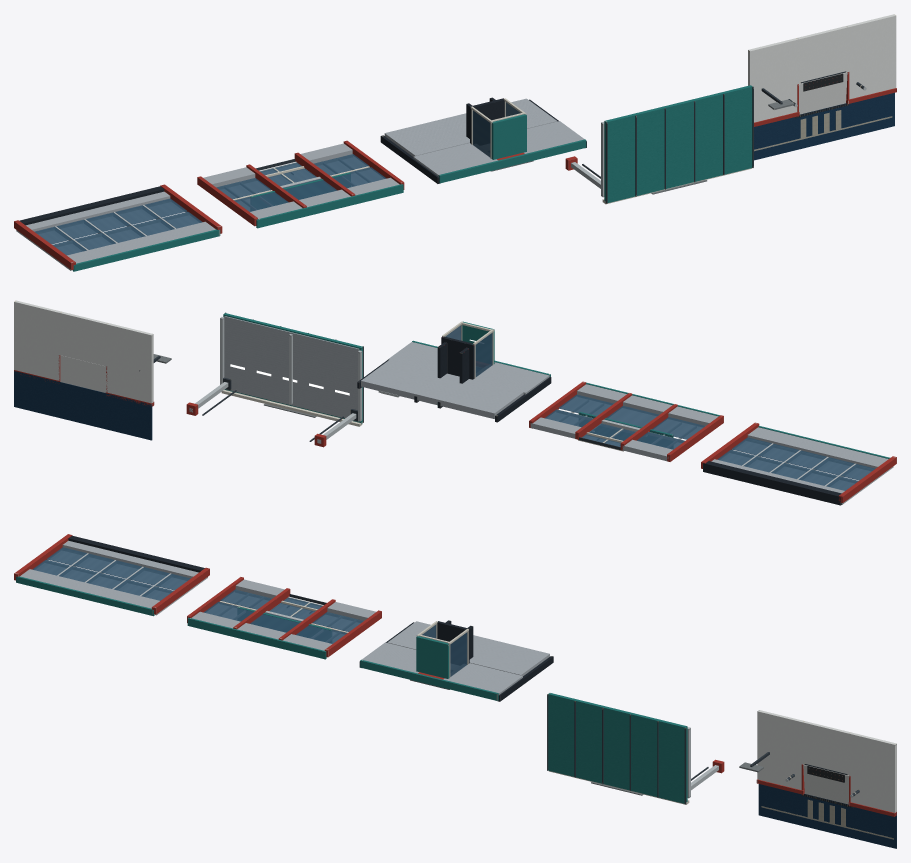
Rendered from PROJECT_Z_Airport_Terminal_Facade_KIT_ALL.glb.
3 views of the same model, one above another, from view 1: azimuth 30°, elevation 25°; view 2: azimuth 150°, elevation 25°; view 3: azimuth 330°, elevation 25° (orthographic). The views are drawn at different scales.
Visible parts, largest first — view 1: REN_Canopy_MainRoofDeck, REN_Curb_Sidewalk_LeftRight, REN_Curtain_InsulatedGlazing, REN_Curb_AsphaltRoad, REN_Bridge_LowerFacade, REN_Entry_FullHeightSidelights, REN_Curb_Sidewalk_UpperContinuous, REN_Entry_StructuralPiers, REN_Curtain_UpperSpandrel, REN_Bridge_UpperLeftCladding, REN_Entry_Coping, REN_Bridge_RoofEdge (+15 smaller); view 2: REN_Canopy_UndersideLiner, REN_Curb_Sidewalk_LeftRight, REN_Curb_AsphaltRoad, REN_Bridge_LowerFacade, REN_Curtain_InsulatedGlazing, REN_Entry_FullHeightSidelights, REN_Curb_Sidewalk_UpperContinuous, REN_Entry_StructuralPiers, REN_Curtain_UpperSpandrel, REN_Curtain_Foundation, REN_Entry_Parapet, REN_Bridge_UpperLeftCladding (+16 smaller); view 3: REN_Canopy_MainRoofDeck, REN_Curb_Sidewalk_LeftRight, REN_Curb_AsphaltRoad, REN_Curtain_InsulatedGlazing, REN_Bridge_LowerFacade, REN_Entry_FullHeightSidelights, REN_Curb_Sidewalk_UpperContinuous, REN_Entry_StructuralPiers, REN_Curtain_UpperSpandrel, REN_Bridge_UpperRightCladding, REN_Entry_Coping, REN_Bridge_ConnectorCeiling (+11 smaller).
Boxes of the visible parts, <box> form: REN_Canopy_MainRoofDeck: <box>604,85,752,202</box>; REN_Curb_Sidewalk_LeftRight: <box>748,14,896,122</box>; REN_Curtain_InsulatedGlazing: <box>34,198,202,255</box>; REN_Curb_AsphaltRoad: <box>754,92,894,160</box>; REN_Bridge_LowerFacade: <box>384,98,557,156</box>; REN_Entry_FullHeightSidelights: <box>216,154,386,211</box>; REN_Curb_Sidewalk_UpperContinuous: <box>797,26,847,83</box>; REN_Entry_StructuralPiers: <box>197,140,404,226</box>; REN_Curtain_UpperSpandrel: <box>67,221,215,263</box>; REN_Bridge_UpperLeftCladding: <box>413,143,497,176</box>; REN_Entry_Coping: <box>256,184,403,228</box>; REN_Bridge_RoofEdge: <box>438,139,586,183</box>; REN_Canopy_UndersideLiner: <box>224,316,359,421</box>; REN_Curb_Sidewalk_LeftRight: <box>14,300,153,403</box>; REN_Curb_AsphaltRoad: <box>14,371,152,440</box>; REN_Bridge_LowerFacade: <box>361,359,523,418</box>; REN_Curtain_InsulatedGlazing: <box>717,437,875,490</box>; REN_Entry_FullHeightSidelights: <box>545,394,705,449</box>; REN_Curb_Sidewalk_UpperContinuous: <box>59,311,107,366</box>; REN_Entry_StructuralPiers: <box>529,381,723,461</box>; REN_Curtain_UpperSpandrel: <box>747,427,888,468</box>; REN_Curtain_Foundation: <box>703,461,841,505</box>; REN_Entry_Parapet: <box>577,384,718,425</box>; REN_Bridge_UpperLeftCladding: <box>473,362,549,394</box>; REN_Canopy_MainRoofDeck: <box>548,693,687,803</box>; REN_Curb_Sidewalk_LeftRight: <box>757,710,896,812</box>; REN_Curb_AsphaltRoad: <box>758,784,896,848</box>; REN_Curtain_InsulatedGlazing: <box>32,547,190,600</box>; REN_Bridge_LowerFacade: <box>387,621,549,675</box>; REN_Entry_FullHeightSidelights: <box>204,589,363,643</box>; REN_Curb_Sidewalk_UpperContinuous: <box>803,721,850,775</box>; REN_Entry_StructuralPiers: <box>187,577,381,657</box>; REN_Curtain_UpperSpandrel: <box>20,569,159,608</box>; REN_Bridge_UpperRightCladding: <box>443,663,522,694</box>; REN_Entry_Coping: <box>187,617,326,659</box>; REN_Bridge_ConnectorCeiling: <box>416,636,449,678</box>.
Size of the model in its own units: 60.15 by 10.08 by 6.88.
Materials: 4 (3 with a texture image).
